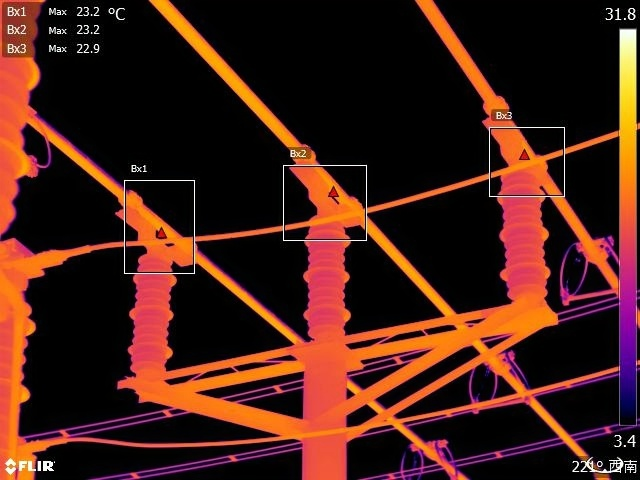post insulator: (126, 256, 186, 378), (294, 219, 354, 338), (499, 169, 554, 297)
